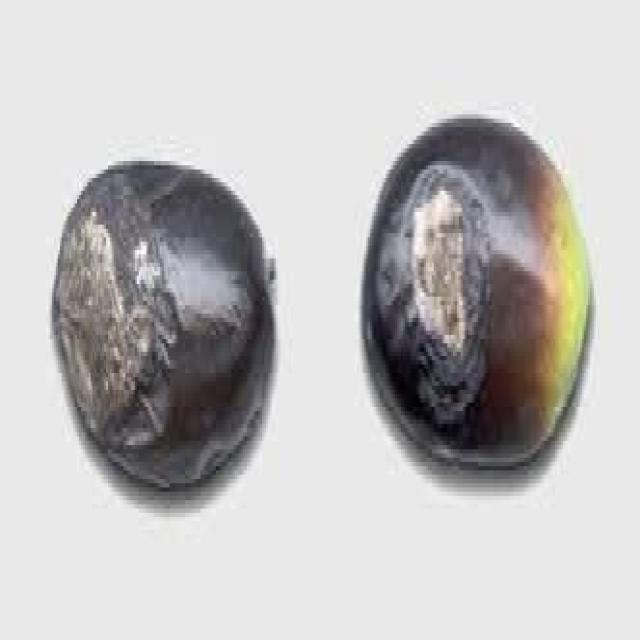Olive Fruit Fly: (362, 119, 590, 479), (52, 163, 270, 509)
